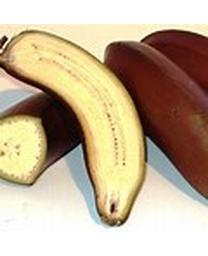banana: (0, 30, 146, 228)
